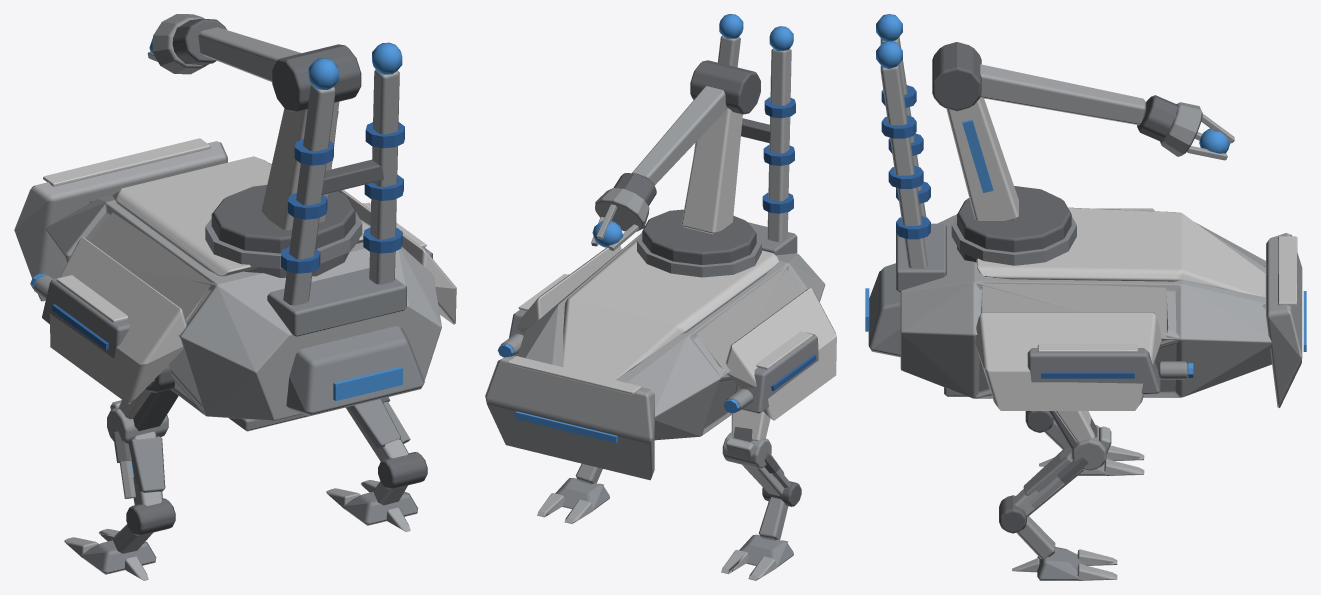
Rendered from lattice_builder_adv_bot.glb.
3 views of the same model, side by side, from view 1: azimuth 30°, elevation 25°; view 2: azimuth 150°, elevation 25°; view 3: azimuth 270°, elevation 25° (orthographic). The views are drawn at different scales.
Visible parts, largest first — view 1: Body; view 2: Body; view 3: Body.
Boxes of the visible parts, bbox=[...] form: Body: bbox=[14, 14, 456, 580]; Body: bbox=[485, 14, 836, 580]; Body: bbox=[865, 14, 1306, 580].
Size of the model in its own units: 1.04 by 1.69 by 1.39.
